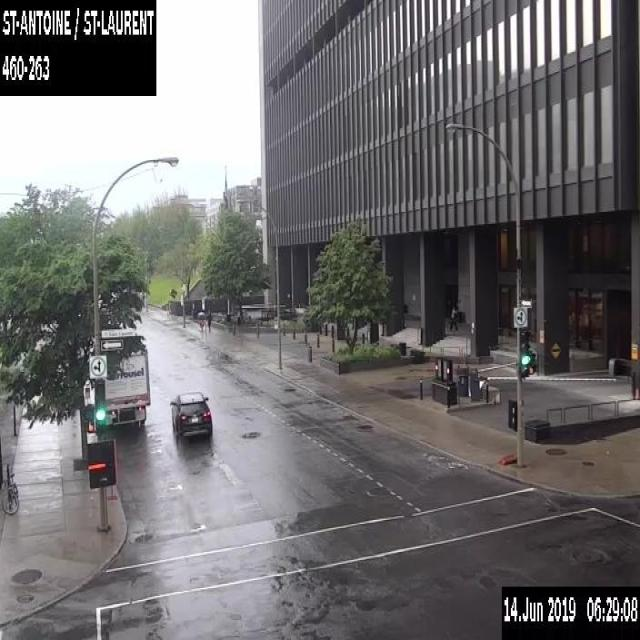pedestrian: (206, 308, 211, 330)
vehicle: (104, 339, 150, 425), (170, 389, 214, 440)
